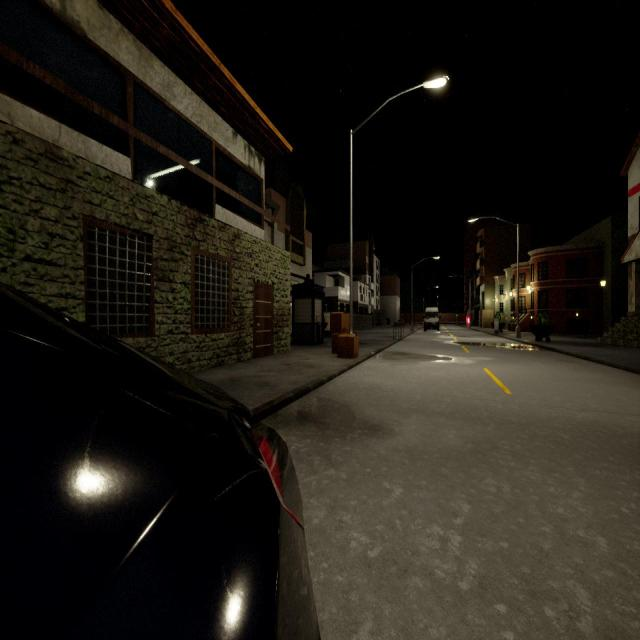Vehicle: (0, 283, 319, 638), (423, 308, 441, 332)
traffic_light: (456, 314, 458, 318)
